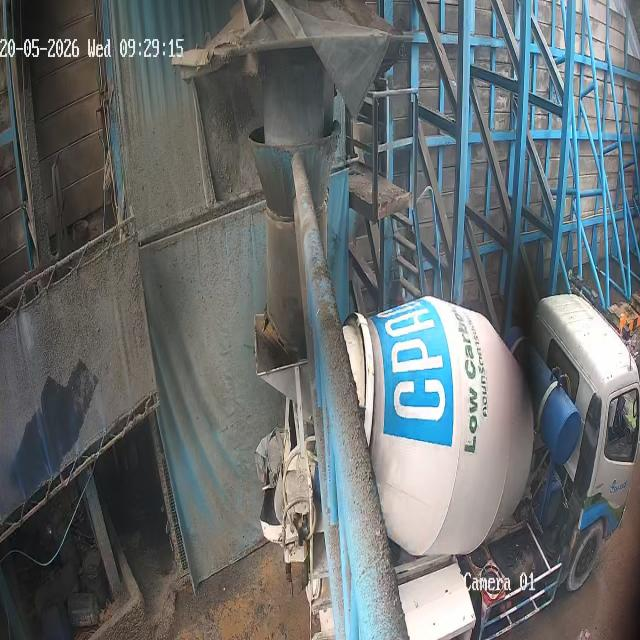cement_mixer_truck: (253, 290, 640, 640)
swing_chute: (249, 120, 344, 346)
